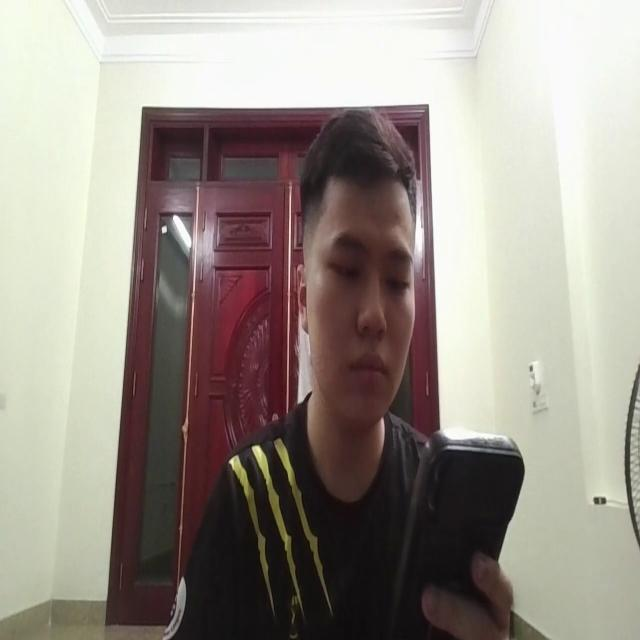phone: (398, 404, 518, 640)
student: (186, 108, 514, 640)
